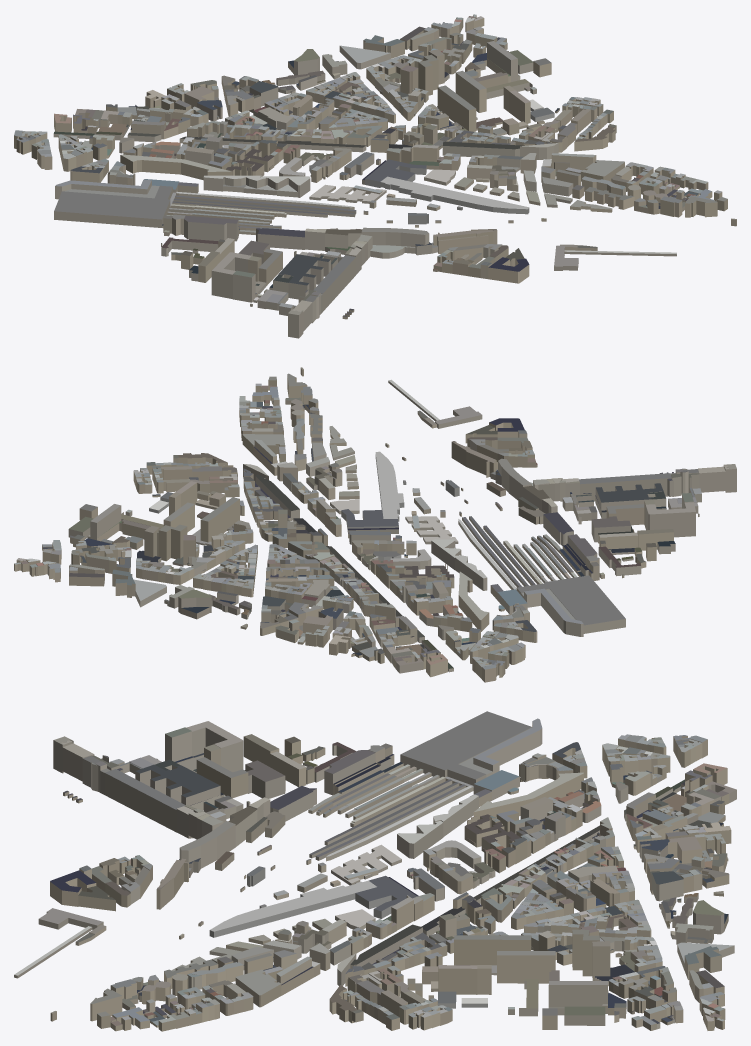
3 renders of one model, top to bottom at view 1: azimuth 30°, elevation 25°; view 2: azimuth 150°, elevation 25°; view 3: azimuth 270°, elevation 25°, orthographic. The views are drawn at different scales.
Parts seen in each view (by area): view 1: tuile; view 2: tuile; view 3: tuile.
Part boxes in pixels (<box>): tuile: <box>14,14,736,338</box>; tuile: <box>14,367,736,682</box>; tuile: <box>14,711,736,1031</box>.
Bounding box in the file's own units: 1098 × 71.68 × 1078.
